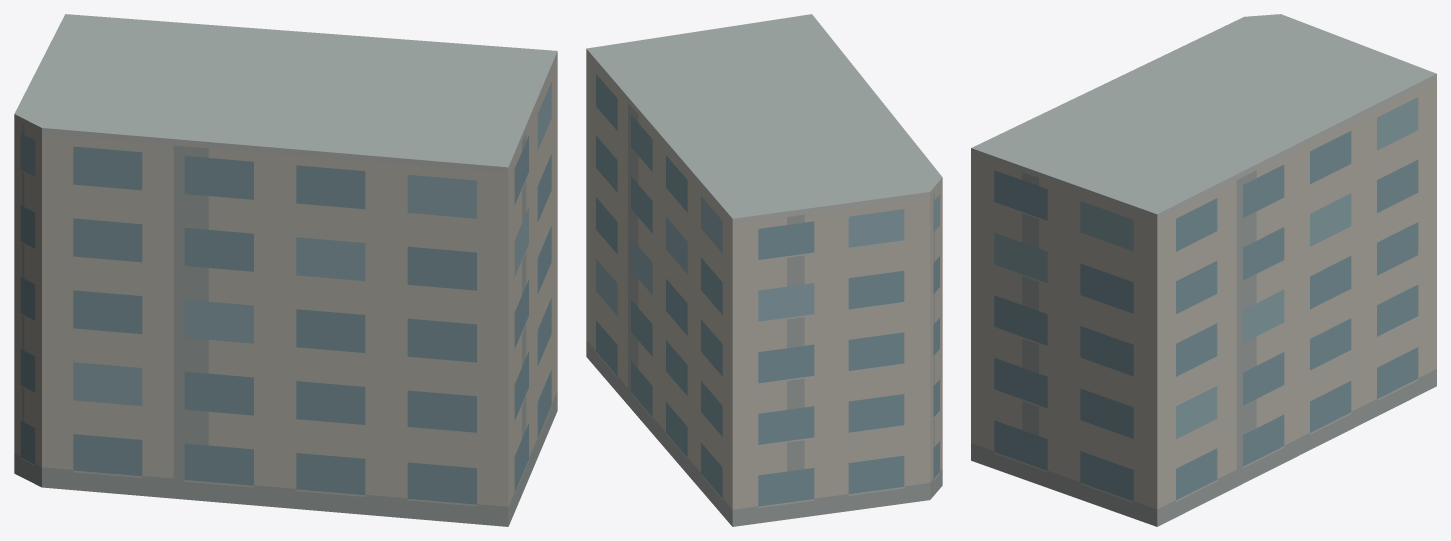
The model's file is survey-upis-32569316.glb.
3 renders of one model, left to right at view 1: azimuth 30°, elevation 25°; view 2: azimuth 150°, elevation 25°; view 3: azimuth 270°, elevation 25°, orthographic. The views are drawn at different scales.
Visible parts, largest first — view 1: survey-upis-32569316.tmp; view 2: survey-upis-32569316.tmp; view 3: survey-upis-32569316.tmp.
Boxes of the visible parts, bbox=[...] form: survey-upis-32569316.tmp: bbox=[14, 14, 557, 526]; survey-upis-32569316.tmp: bbox=[586, 14, 942, 526]; survey-upis-32569316.tmp: bbox=[971, 14, 1436, 526].
Size of the model in its own units: 18.29 by 13.3 by 17.97.
